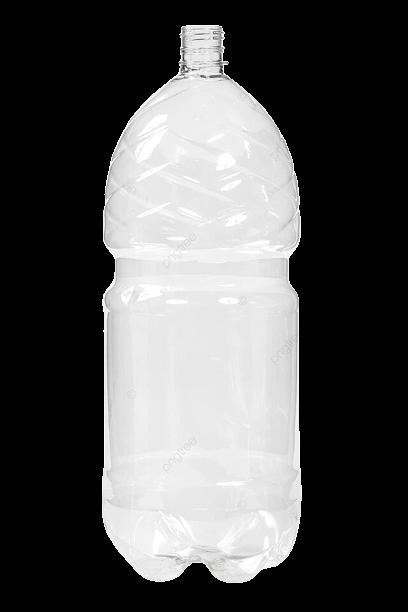Plastik: (94, 15, 315, 588)
